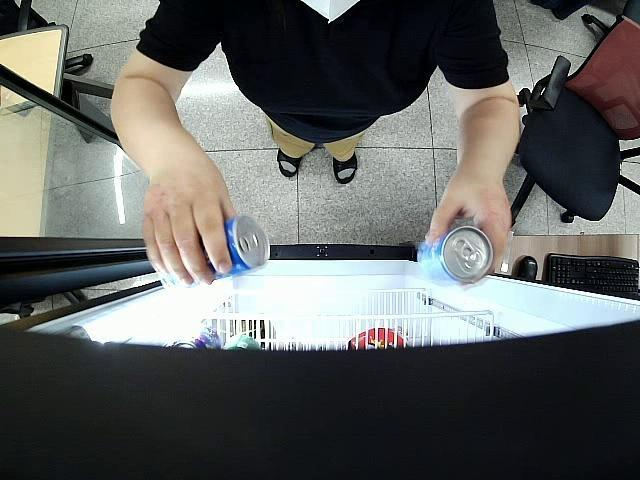15_letsbe: (156, 216, 270, 286), (416, 224, 492, 284)
